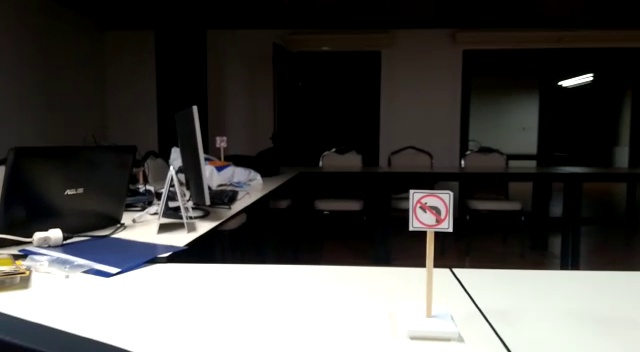sola_donulmez: (407, 187, 451, 234)
